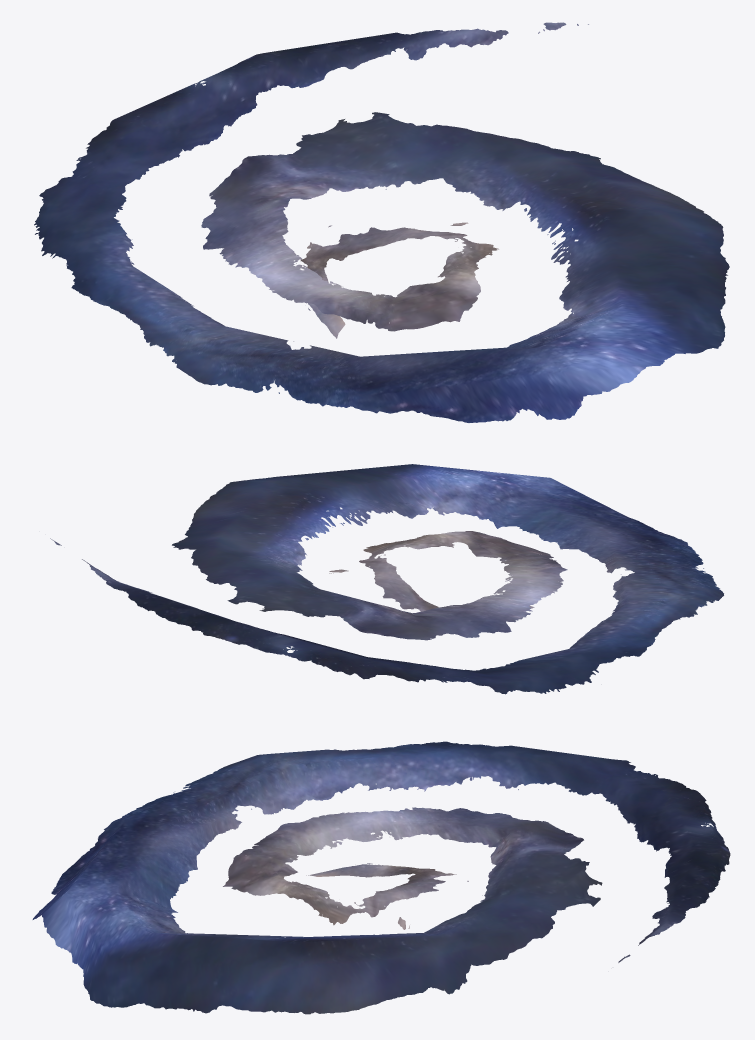
Rendered from cloud.fbx.
The picture shows the model from 3 angles, top to bottom: view 1: azimuth 30°, elevation 25°; view 2: azimuth 150°, elevation 25°; view 3: azimuth 270°, elevation 25°; orthographic projection. The views are drawn at different scales.
Parts seen in each view (by area): view 1: polySurface2; view 2: polySurface2; view 3: polySurface2.
Boxes of the visible parts, <box> form: polySurface2: <box>34,22,729,422</box>; polySurface2: <box>50,464,723,694</box>; polySurface2: <box>32,741,730,1014</box>.
Bounding box in the file's own units: 91.53 × 14.23 × 86.15.
1 material, 1 textured.
